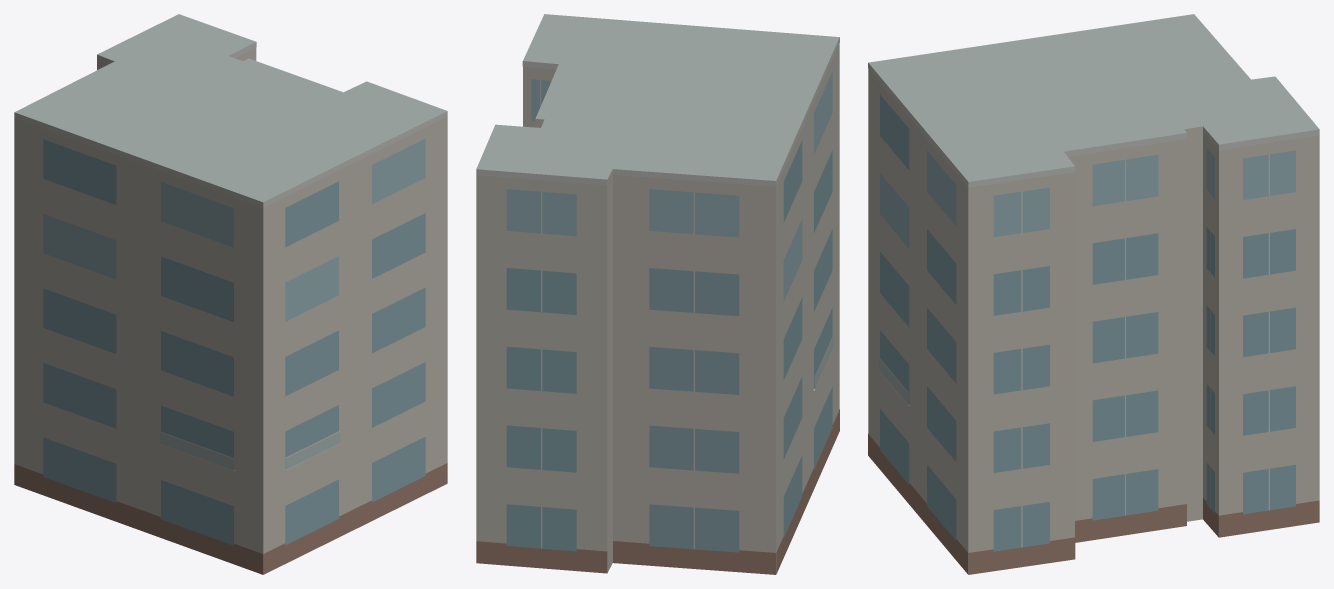
Rendered from survey-upis-32671147.glb.
The picture shows the model from 3 angles, left to right: view 1: azimuth 30°, elevation 25°; view 2: azimuth 150°, elevation 25°; view 3: azimuth 270°, elevation 25°; orthographic projection. The views are drawn at different scales.
Visible parts, largest first — view 1: survey-upis-32671147.tmp; view 2: survey-upis-32671147.tmp; view 3: survey-upis-32671147.tmp.
Boxes of the visible parts, x1=… form: survey-upis-32671147.tmp: x1=14, y1=14, x2=447, y2=574; survey-upis-32671147.tmp: x1=476, y1=14, x2=839, y2=574; survey-upis-32671147.tmp: x1=868, y1=14, x2=1319, y2=574.
Bounding box in the file's own units: 15.22 × 16.6 × 17.3.
